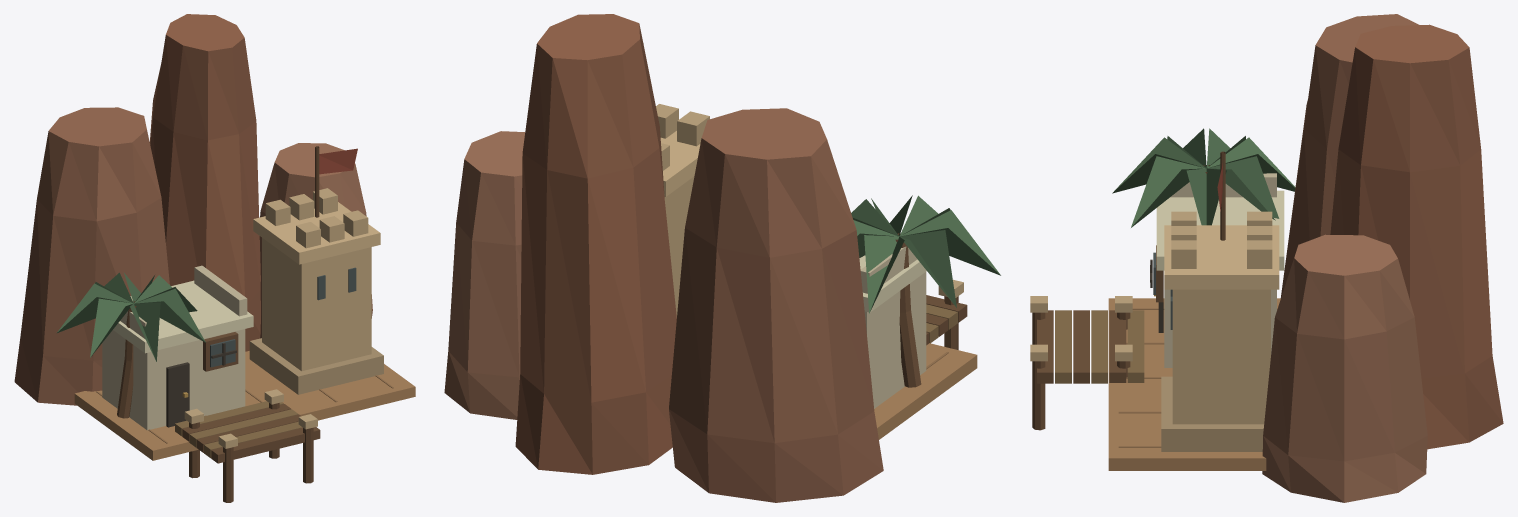
3 views of the same model, side by side, from view 1: azimuth 30°, elevation 25°; view 2: azimuth 150°, elevation 25°; view 3: azimuth 270°, elevation 25° (orthographic). The views are drawn at different scales.
Visible parts, largest first — view 1: S25_阿丹国 · 火山岩港; view 2: S25_阿丹国 · 火山岩港; view 3: S25_阿丹国 · 火山岩港.
Boxes of the visible parts, x1=… form: S25_阿丹国 · 火山岩港: x1=14, y1=14, x2=415, y2=502; S25_阿丹国 · 火山岩港: x1=444, y1=14, x2=1000, y2=502; S25_阿丹国 · 火山岩港: x1=1030, y1=14, x2=1503, y2=502.
Bounding box in the file's own units: 3.96 × 3.59 × 3.75.
